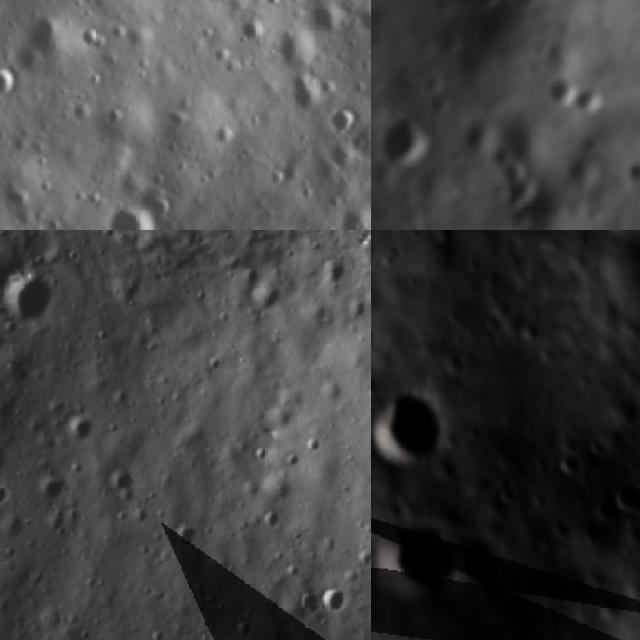crater: (371, 372, 460, 483), (371, 513, 468, 612), (371, 96, 452, 178), (445, 0, 608, 40), (448, 522, 522, 604), (84, 180, 175, 230), (0, 266, 57, 335), (314, 95, 366, 147), (572, 73, 632, 117), (539, 60, 590, 110), (0, 44, 34, 110), (239, 276, 284, 322), (312, 583, 358, 628), (602, 475, 640, 524), (546, 442, 586, 484), (286, 590, 323, 630), (108, 465, 139, 509), (64, 409, 96, 446), (171, 522, 206, 554), (320, 258, 347, 296), (258, 509, 286, 540), (33, 481, 67, 505), (371, 308, 385, 360), (230, 618, 259, 640), (92, 328, 114, 354), (303, 432, 324, 459), (190, 289, 210, 311), (352, 302, 371, 325), (0, 548, 22, 567), (284, 456, 302, 478), (206, 357, 224, 379), (0, 484, 16, 506), (254, 445, 267, 469), (12, 230, 33, 237), (0, 565, 5, 590)
